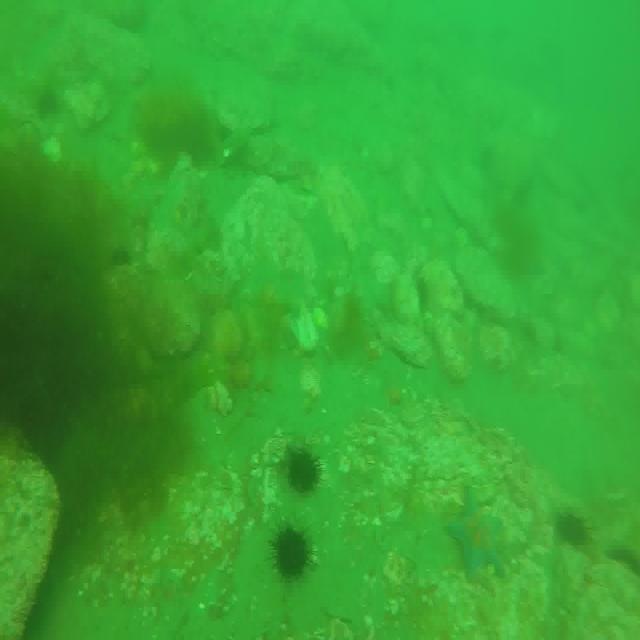echinus: (272, 521, 312, 581), (285, 444, 319, 496), (606, 543, 640, 592), (558, 510, 591, 556), (35, 82, 62, 126)
starfish: (448, 487, 506, 585)
